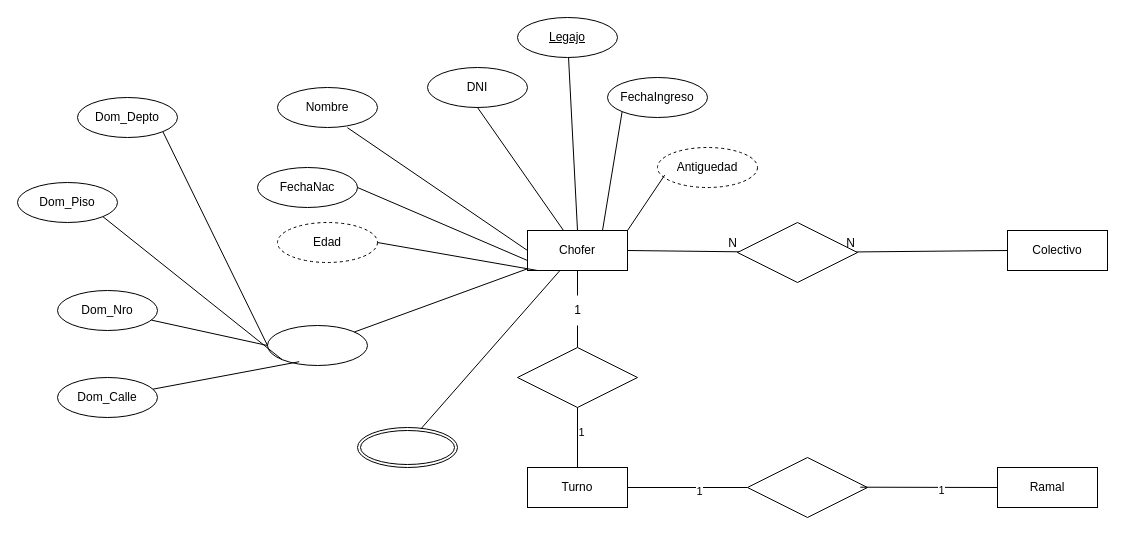
Image size: 1125x535. Some labels were removed from this diagram. The shapes that lost their labels are listed below. From the top down, each one's centre as x and y in pixels, then its label:
At point (797, 252): "Conduce".
At point (317, 345): "Domicilio".
At point (577, 377): "Trabaja".
At point (407, 447): "Telefono".
At point (807, 487): "Cubre".
